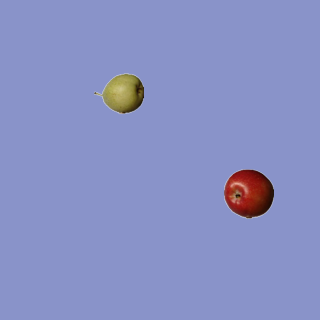Apple Braeburn: (223, 168, 273, 218)
Pear: (93, 68, 143, 118)
